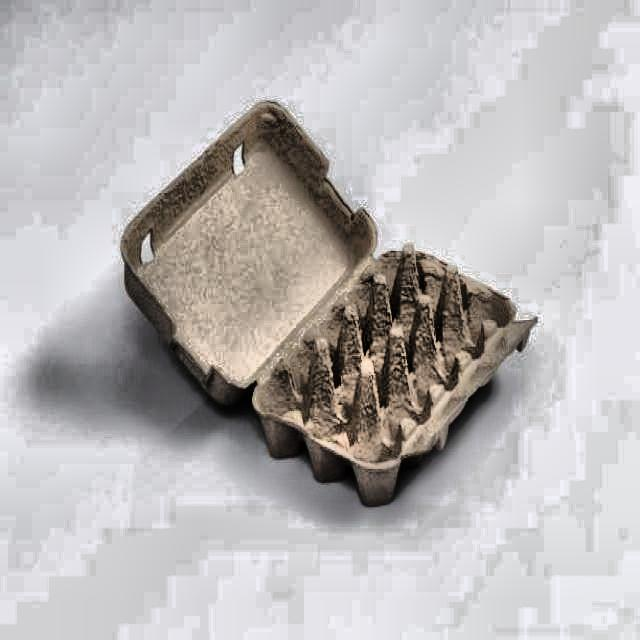cardboard: (120, 101, 538, 508)
